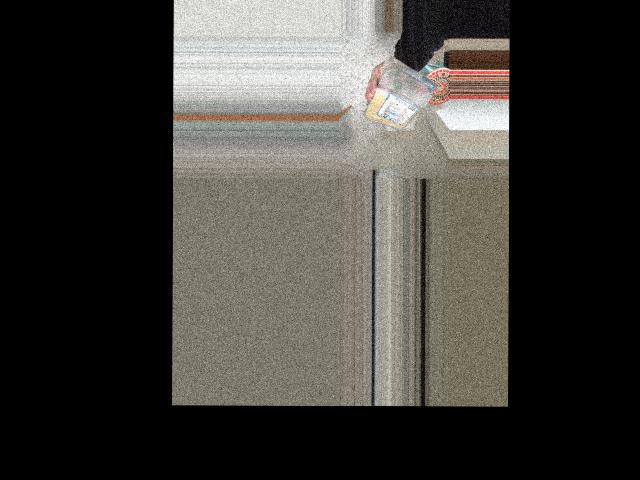cheese: (373, 61, 438, 136)
